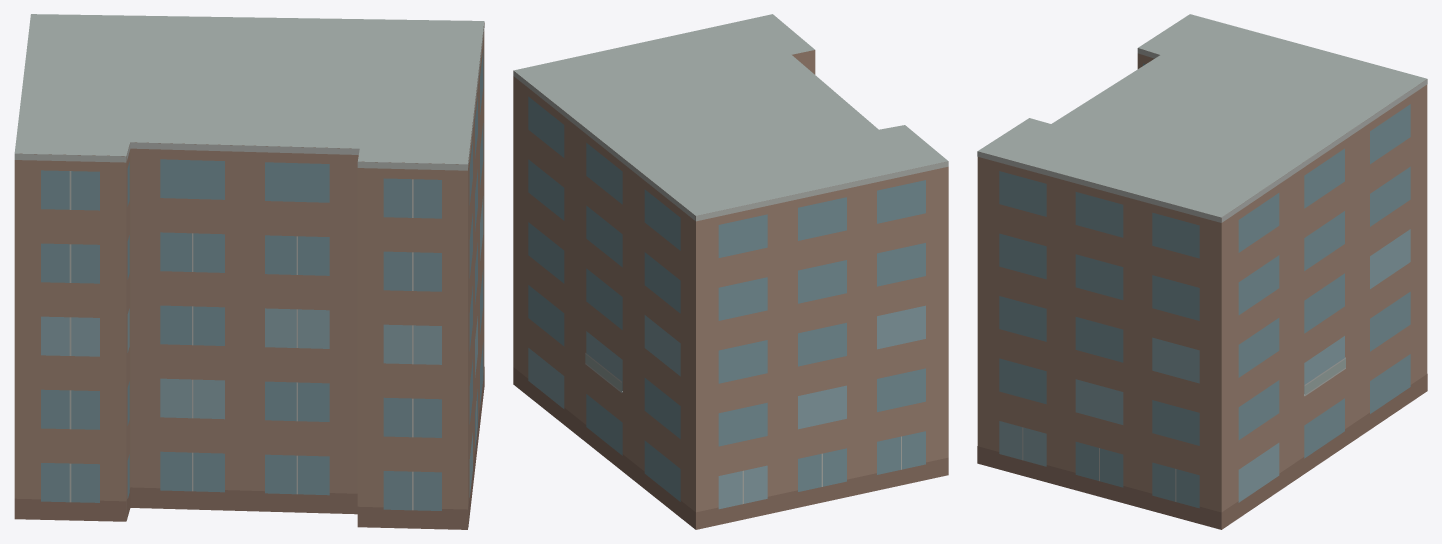
The model's file is survey-upis-32888604.glb.
3 renders of one model, left to right at view 1: azimuth 30°, elevation 25°; view 2: azimuth 150°, elevation 25°; view 3: azimuth 270°, elevation 25°, orthographic. The views are drawn at different scales.
Visible parts, largest first — view 1: survey-upis-32888604.tmp; view 2: survey-upis-32888604.tmp; view 3: survey-upis-32888604.tmp.
Boxes of the visible parts, <box> form: survey-upis-32888604.tmp: <box>14,14,484,529</box>; survey-upis-32888604.tmp: <box>513,14,948,529</box>; survey-upis-32888604.tmp: <box>977,14,1427,529</box>.
Bounding box in the file's own units: 19.58 × 14 × 18.29.
